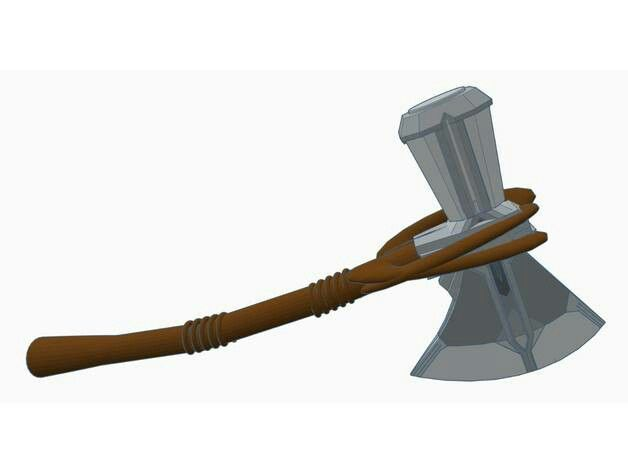THOR Hammer: (18, 67, 615, 408)
